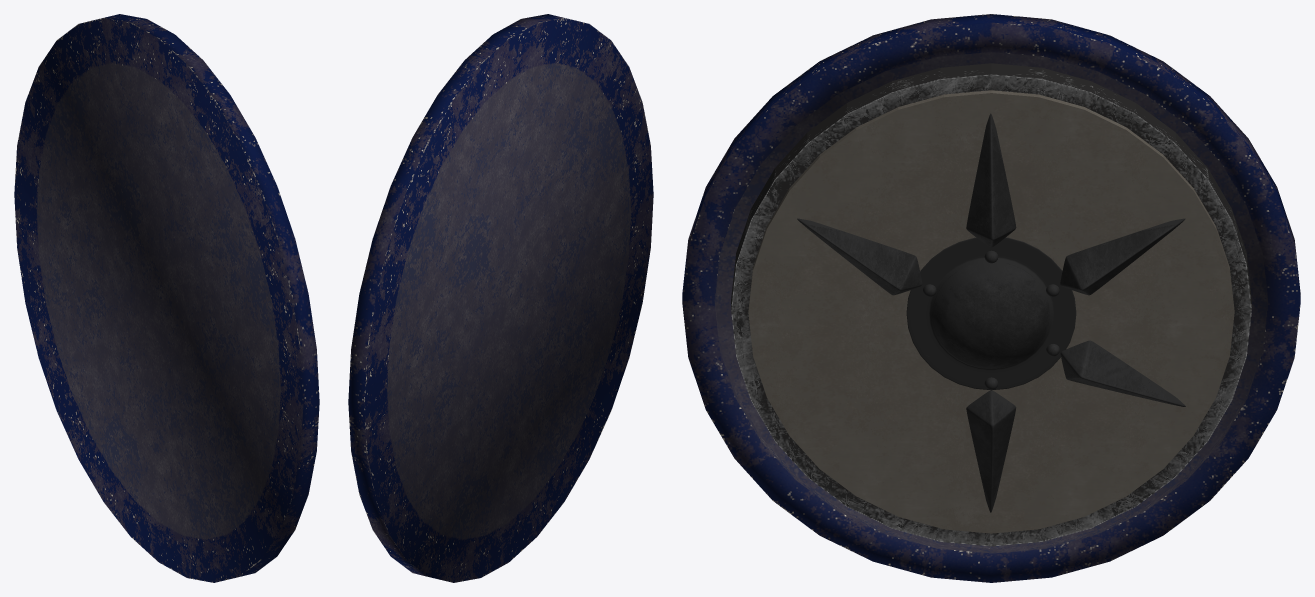
Rendered from Escudo_pintado1.glb.
The picture shows the model from 3 angles, left to right: view 1: azimuth 30°, elevation 25°; view 2: azimuth 150°, elevation 25°; view 3: azimuth 270°, elevation 25°; orthographic projection. The views are drawn at different scales.
Parts seen in each view (by area): view 1: Grande1; view 2: Grande1; view 3: Pequeño1, Grande1, Mediano1, Centro1, Pico1.
Boxes of the visible parts, left/top/right/bottom form: Grande1: left=14, top=14, right=319, bottom=582; Grande1: left=348, top=14, right=653, bottom=582; Pequeño1: left=748, top=90, right=1234, bottom=533; Grande1: left=682, top=14, right=1300, bottom=582; Mediano1: left=731, top=63, right=1251, bottom=546; Centro1: left=906, top=237, right=1076, bottom=390; Pico1: left=797, top=113, right=1185, bottom=512.
Size of the model in its own units: 1.96 by 13.6 by 13.6.
Materials: 8 (8 with a texture image).
